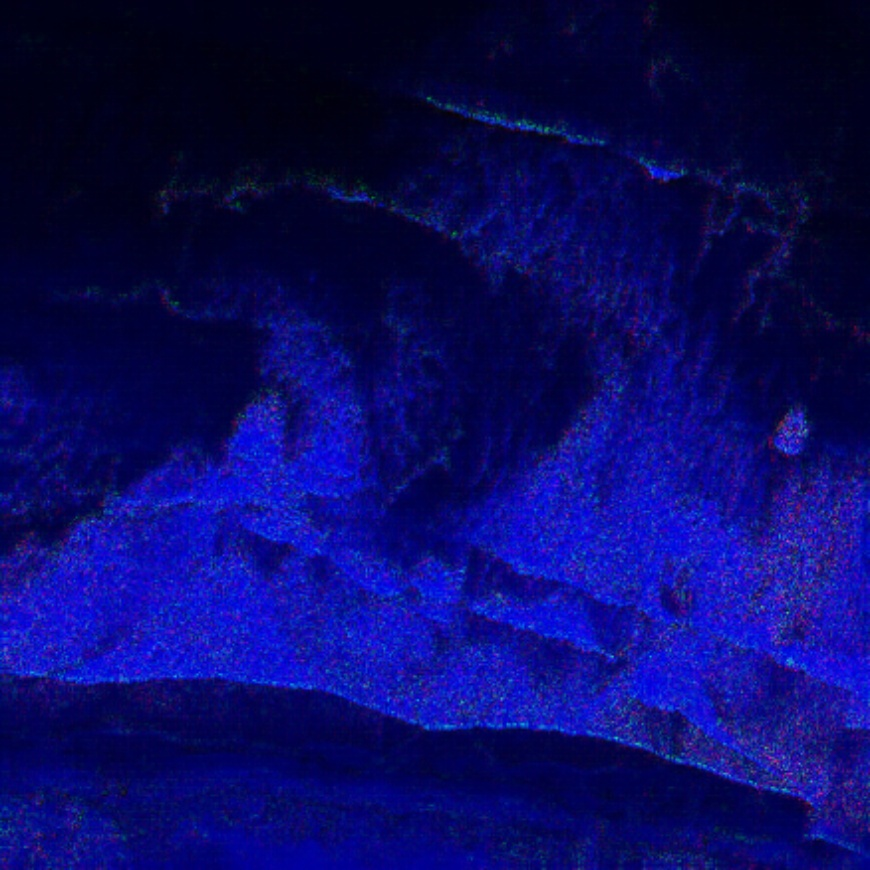rip_current: (267, 255, 624, 689)
